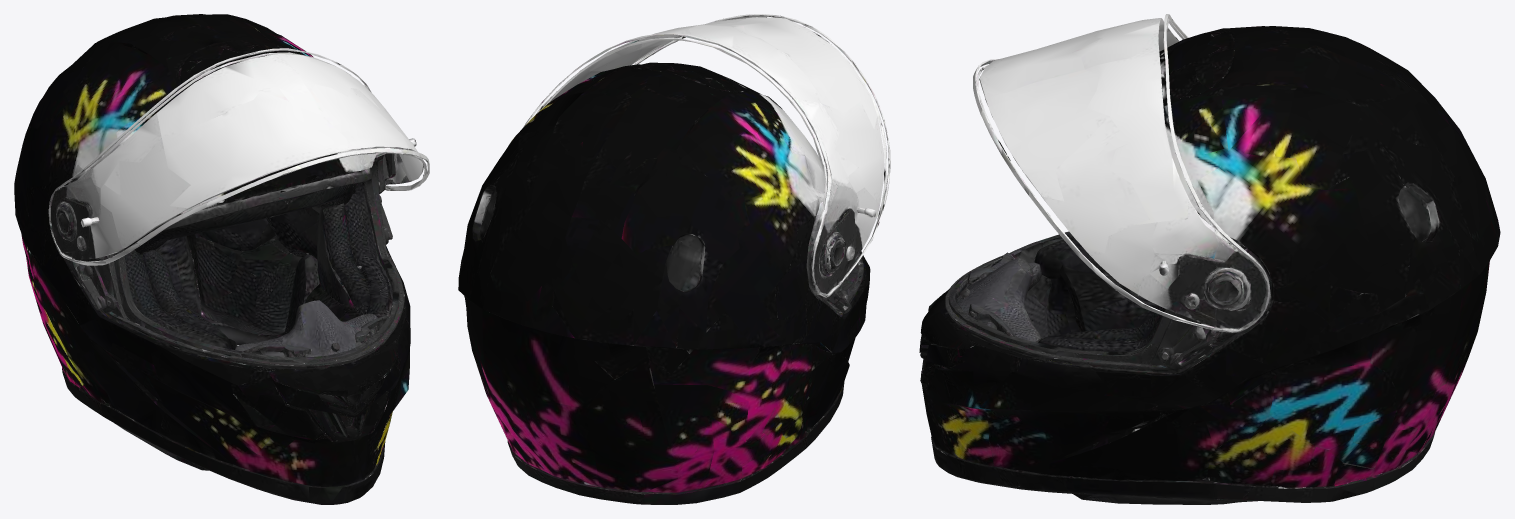
The model's file is helmet.glb.
3 renders of one model, left to right at view 1: azimuth 30°, elevation 25°; view 2: azimuth 150°, elevation 25°; view 3: azimuth 270°, elevation 25°, orthographic. The views are drawn at different scales.
Visible parts, largest first — view 1: Mesh_0; view 2: Mesh_0; view 3: Mesh_0.
Part boxes in pixels (x1,y1,x2,y2): Mesh_0: (14,14,429,504); Mesh_0: (458,14,890,504); Mesh_0: (919,14,1500,504).
Bounding box in the file's own units: 0.7538 × 0.815 × 0.9997.
1 material, 1 textured.
